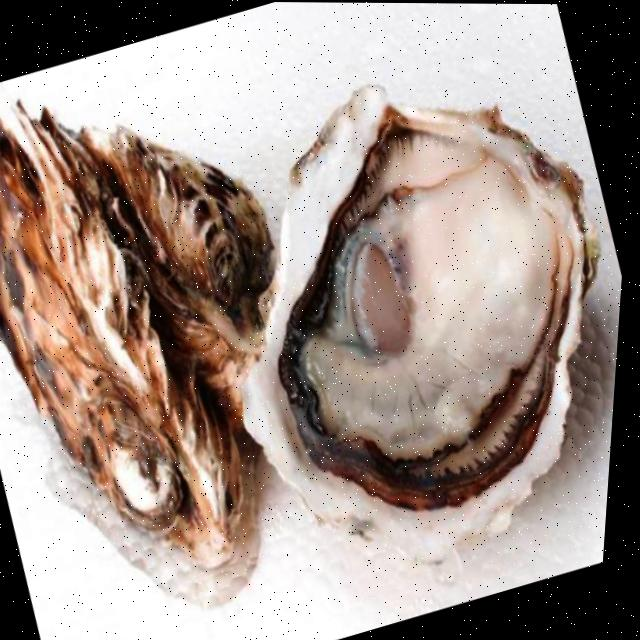Oyster-Closed: (0, 36, 307, 616), (68, 76, 334, 453)
Oyster-Open: (141, 25, 638, 609)
